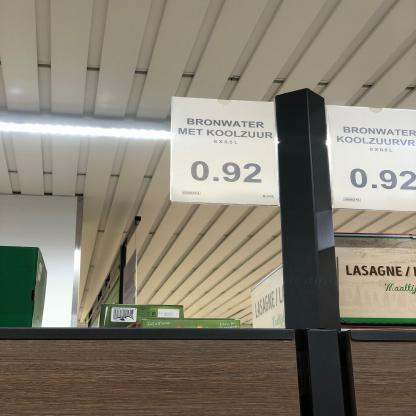prtg: (172, 98, 280, 207), (326, 106, 415, 213)
